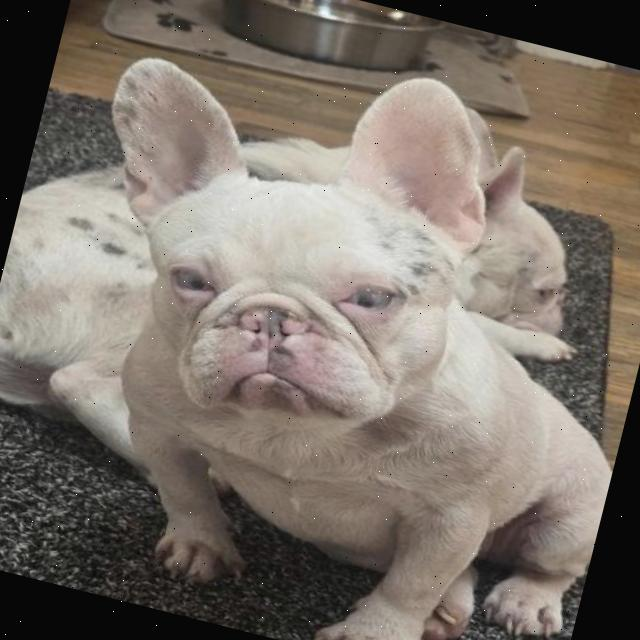french_bulldog_dog: (21, 0, 540, 505)
